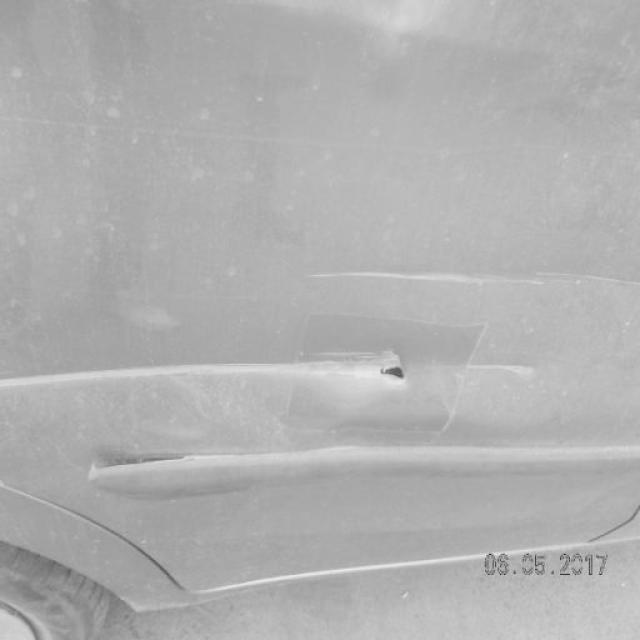car damage: (2, 339, 418, 401), (305, 263, 640, 295), (430, 352, 541, 383), (382, 362, 411, 387)
